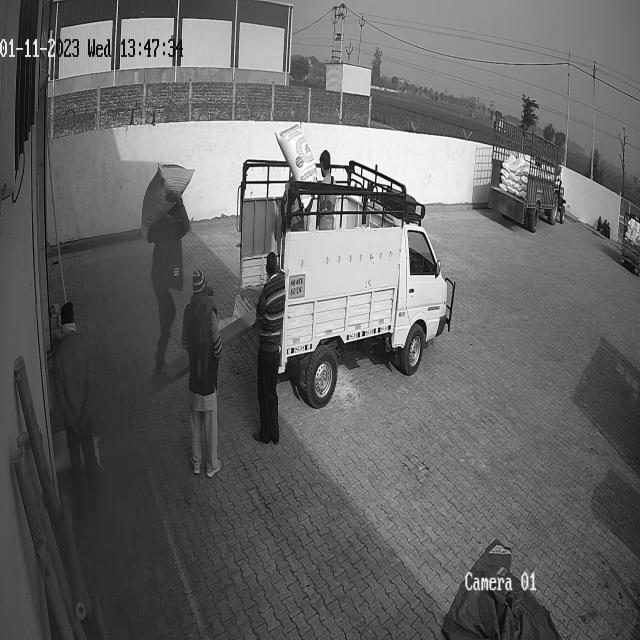sack: (142, 165, 192, 236)
